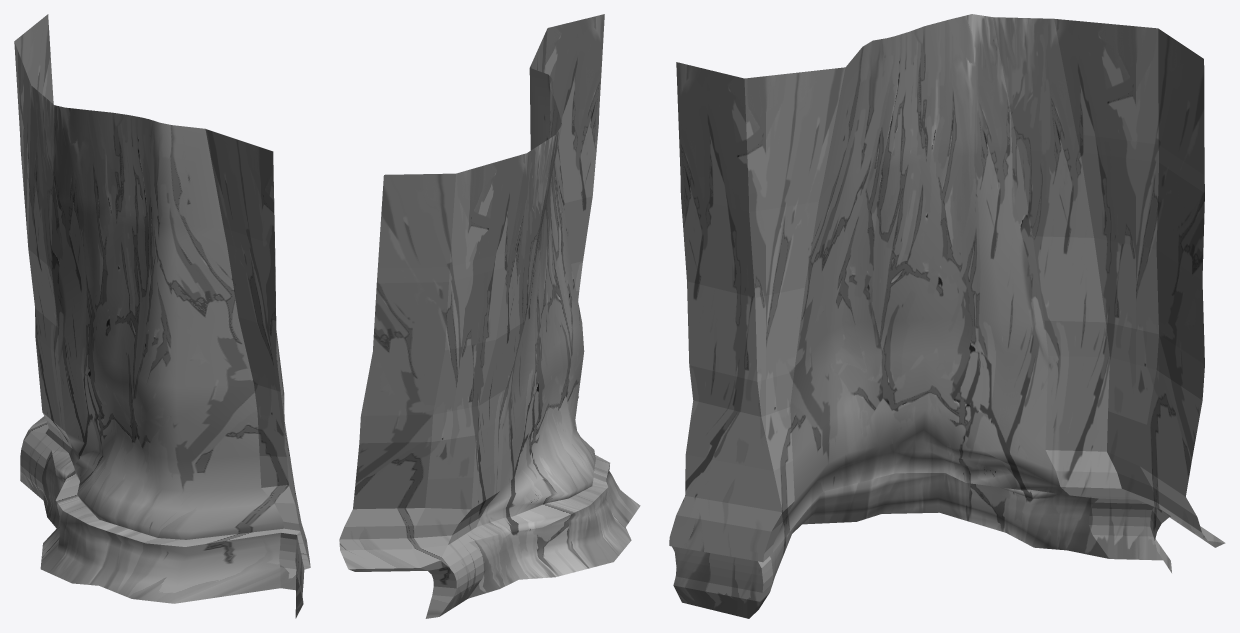
Rendered from WallBig.fbx.
The picture shows the model from 3 angles, left to right: view 1: azimuth 30°, elevation 25°; view 2: azimuth 150°, elevation 25°; view 3: azimuth 270°, elevation 25°; orthographic projection. The views are drawn at different scales.
Visible parts, largest first — view 1: pPlane5; view 2: pPlane5; view 3: pPlane5.
Boxes of the visible parts, left/top/right/bottom form: pPlane5: left=14, top=14, right=310, bottom=618; pPlane5: left=339, top=14, right=640, bottom=618; pPlane5: left=669, top=14, right=1225, bottom=618.
Size of the model in its own units: 80.69 by 189 by 179.
1 material, 1 textured.
